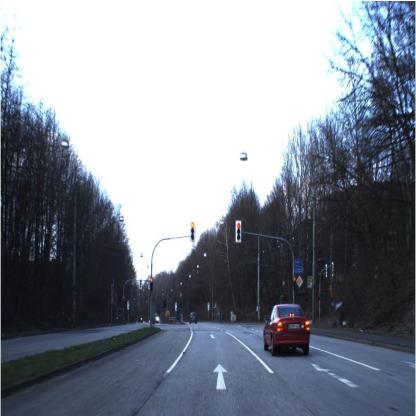other: (294, 272, 305, 290)
